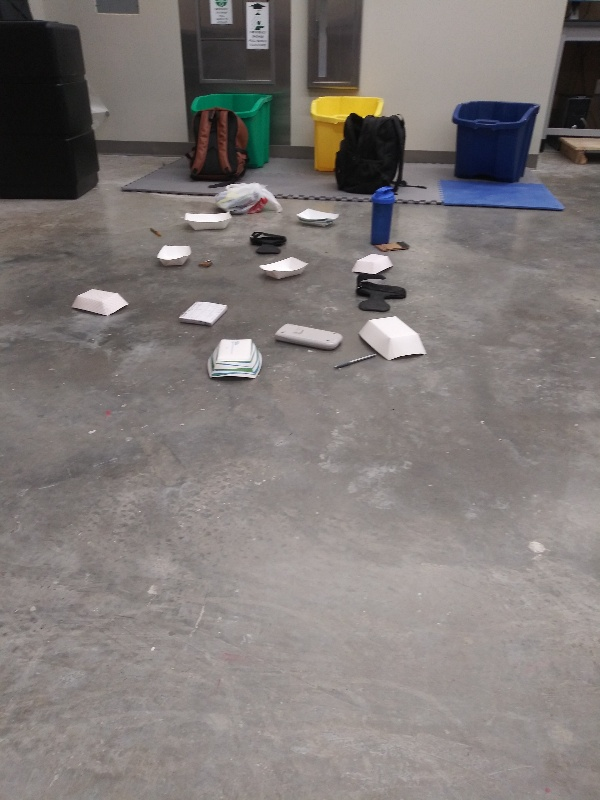plate: (354, 312, 432, 366), (204, 336, 267, 386), (67, 285, 131, 320), (255, 254, 313, 284), (179, 208, 234, 235), (294, 206, 346, 233), (351, 249, 396, 280), (152, 239, 195, 270)
